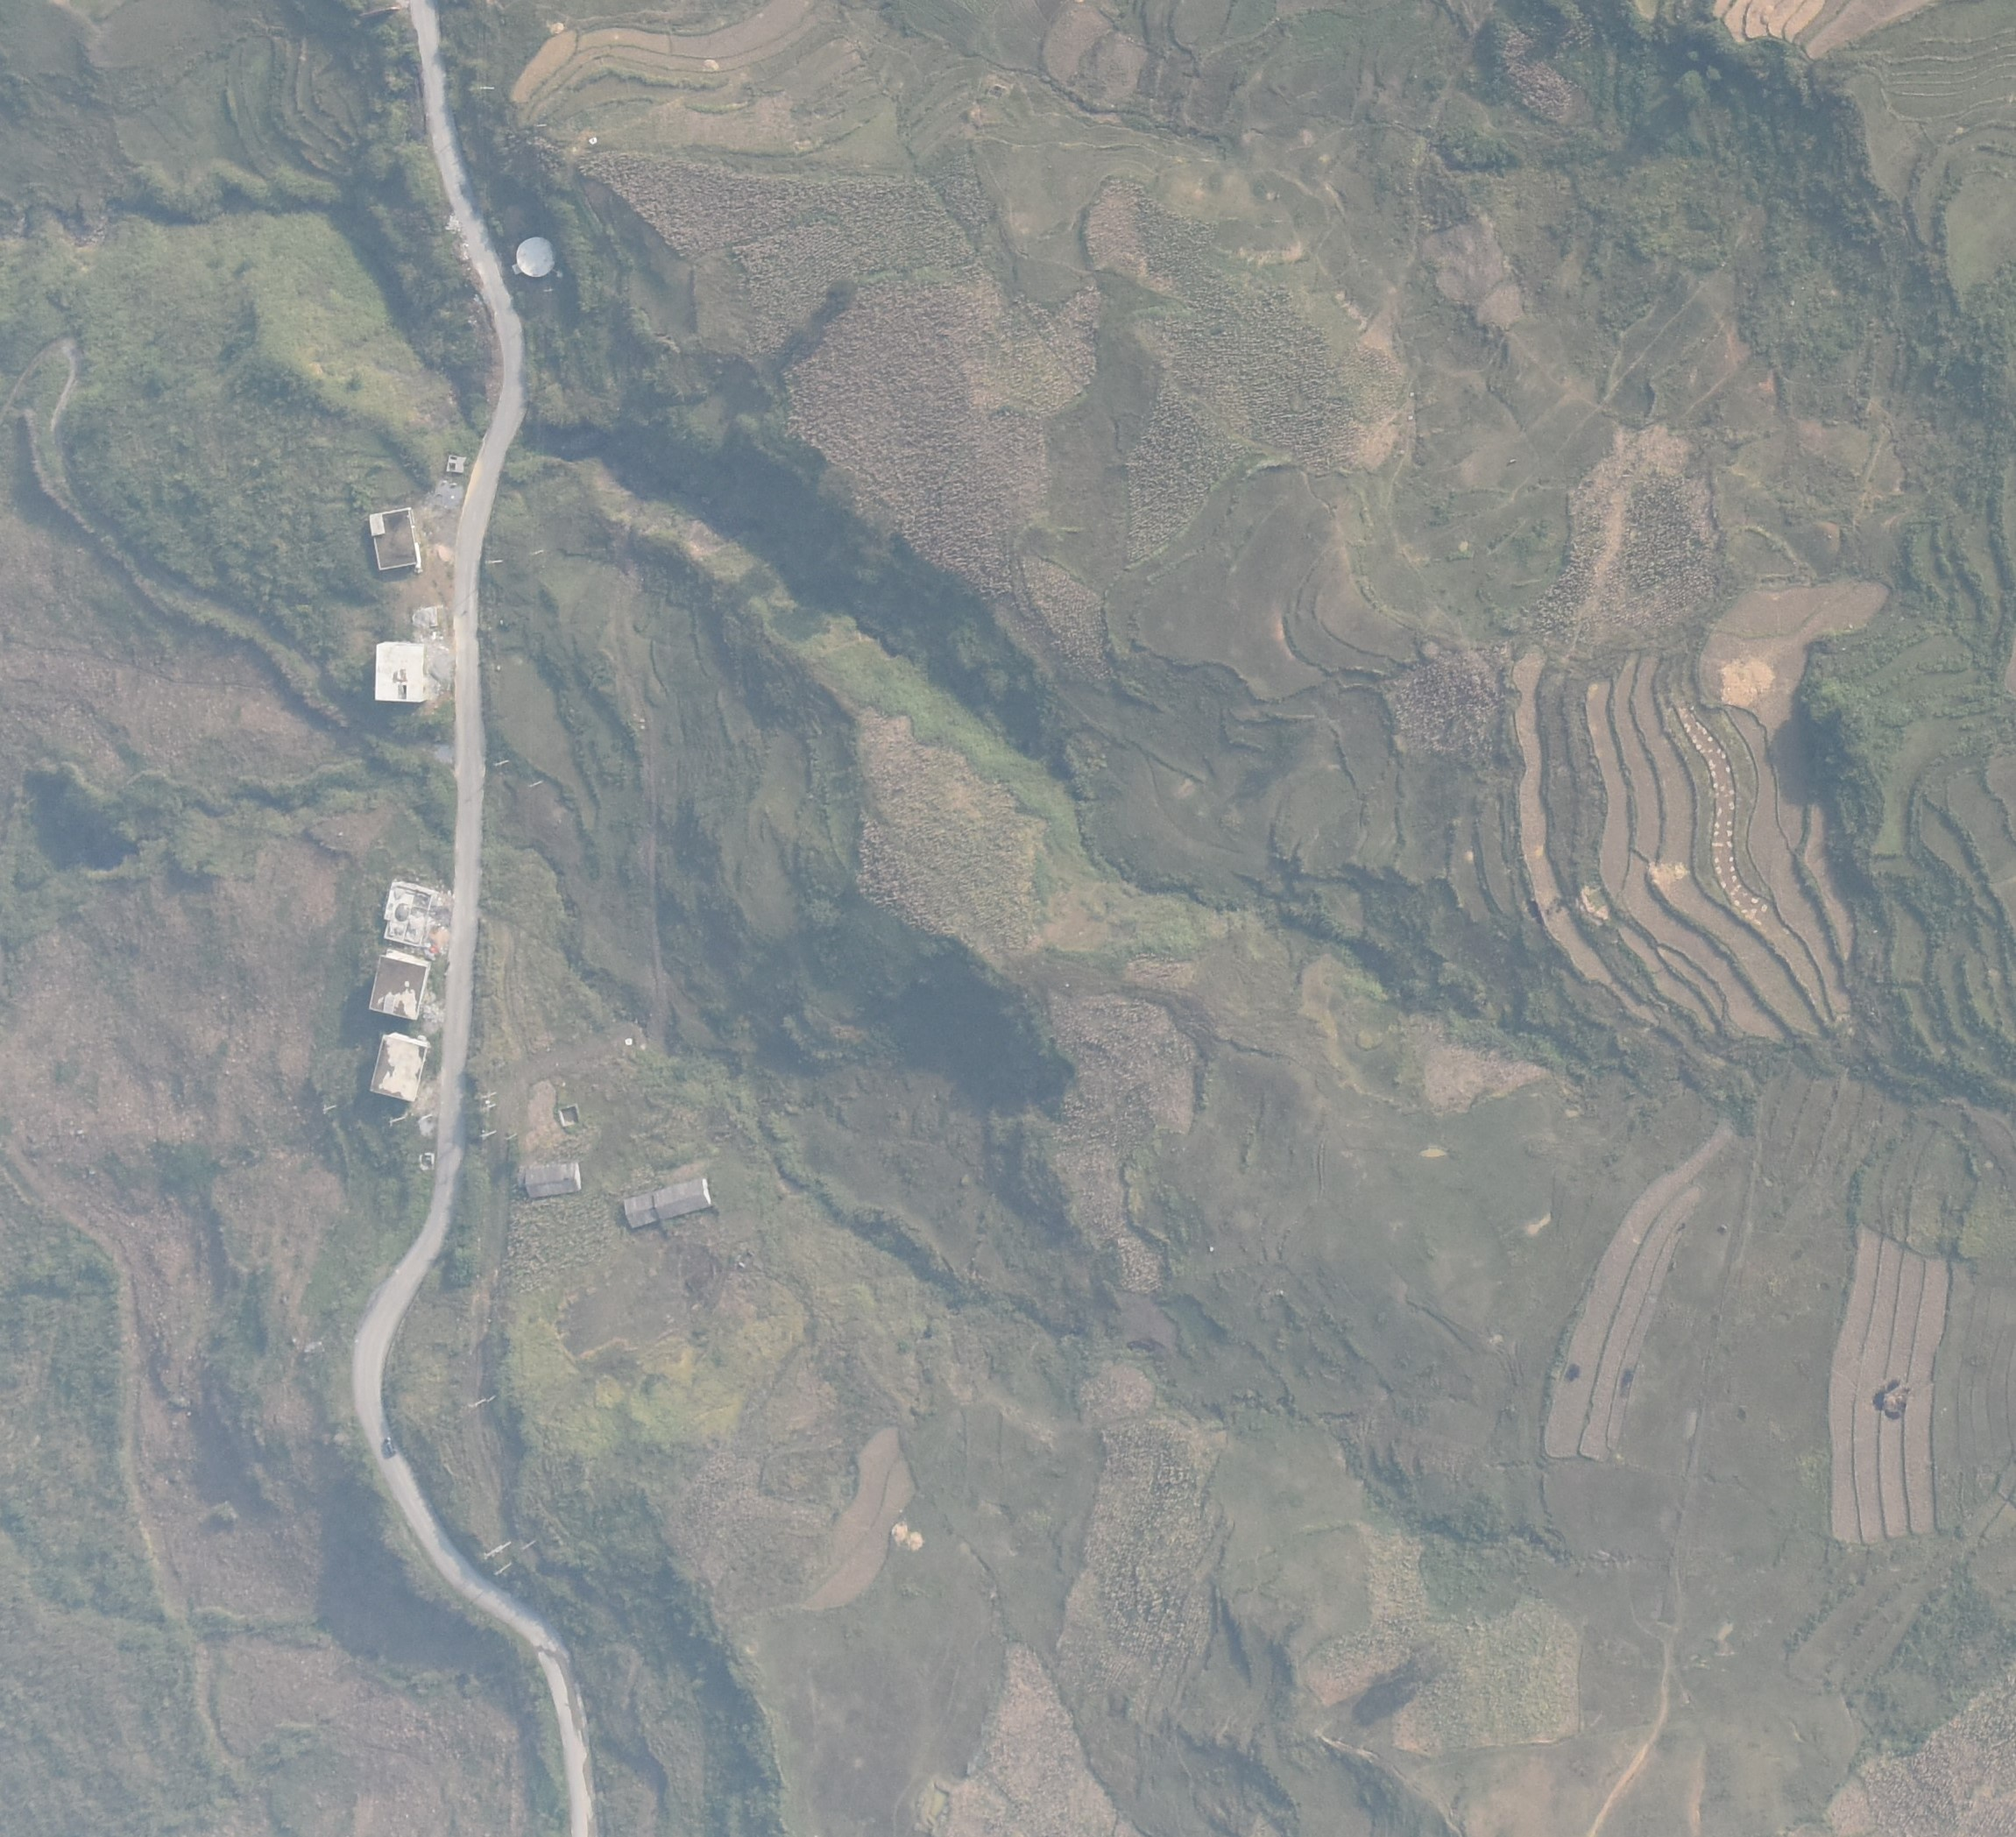building: (367, 495, 430, 588), (371, 869, 437, 948), (367, 945, 432, 1024), (367, 629, 430, 710), (365, 1033, 430, 1105), (516, 1157, 588, 1199), (653, 1175, 715, 1221), (620, 1191, 666, 1233)
cable-tower: (481, 1526, 546, 1586), (458, 1391, 502, 1421), (381, 1106, 411, 1135), (518, 544, 550, 569), (314, 1099, 346, 1124), (522, 773, 553, 794), (471, 1099, 511, 1113), (478, 1122, 511, 1138), (469, 1087, 509, 1099), (486, 752, 511, 771), (479, 555, 508, 569)
vehicle: (381, 1433, 397, 1458)
well: (511, 234, 574, 285)
